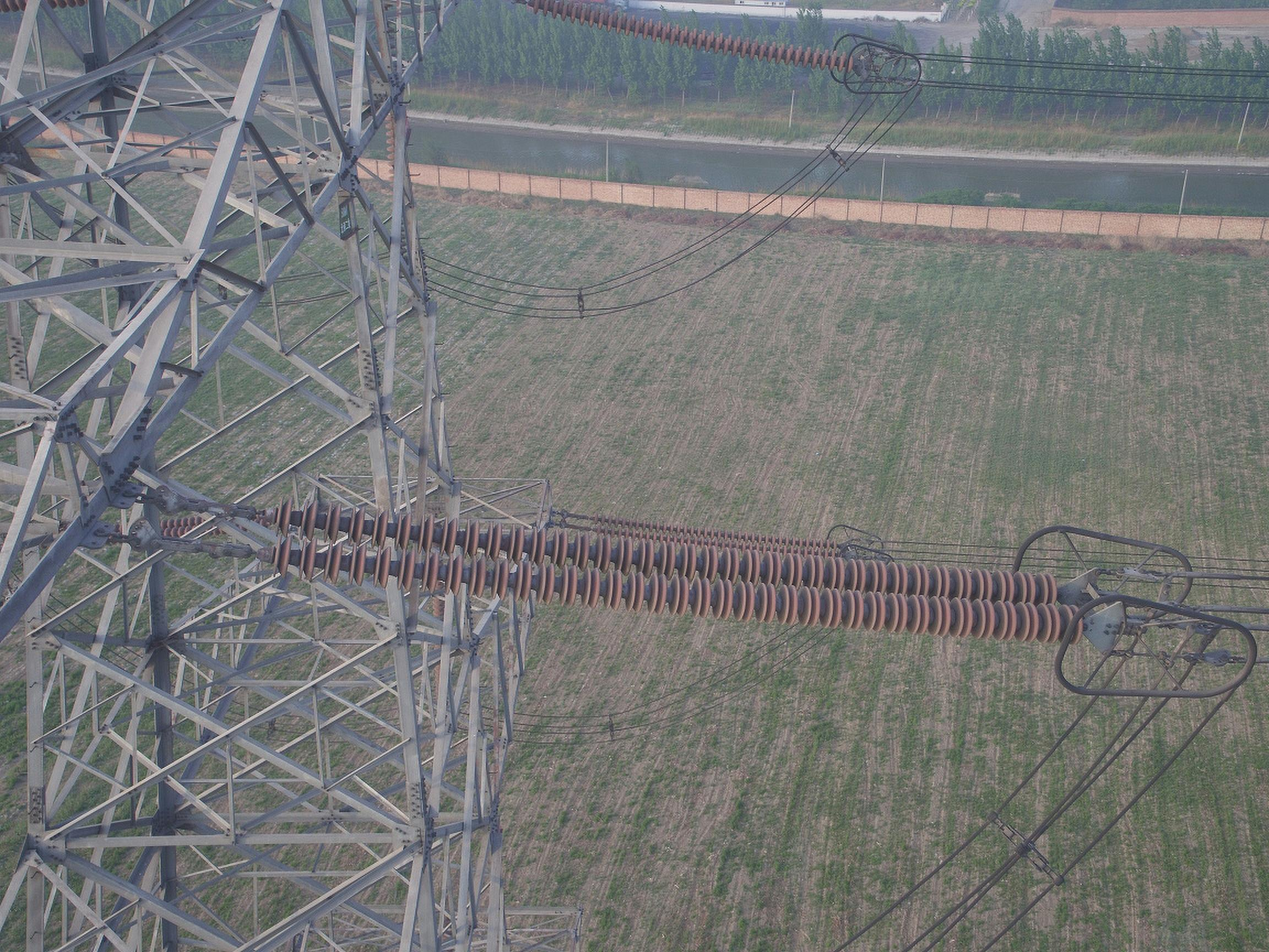insulator: (264, 493, 1087, 648), (527, 1, 856, 76), (591, 510, 840, 559), (158, 514, 267, 540)
